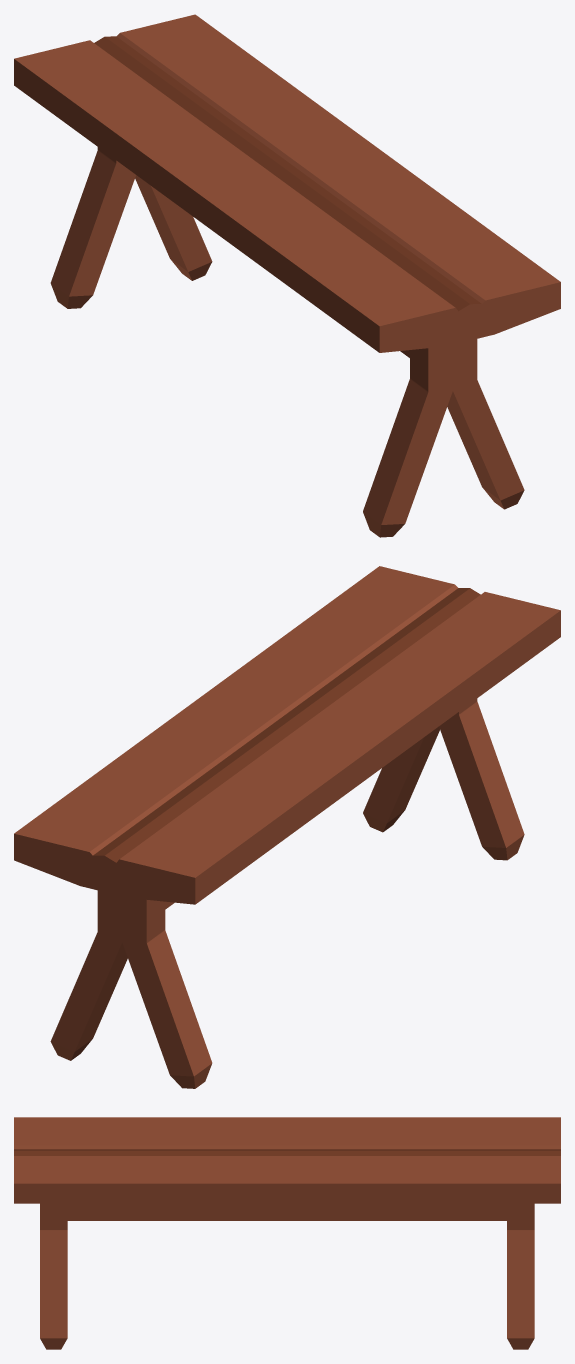
File: Bench_2.fbx
The picture shows the model from 3 angles, top to bottom: view 1: azimuth 30°, elevation 25°; view 2: azimuth 150°, elevation 25°; view 3: azimuth 270°, elevation 25°; orthographic projection. The views are drawn at different scales.
Parts seen in each view (by area): view 1: Cube; view 2: Cube; view 3: Cube.
Boxes of the visible parts, x1,y1,x2,y2 form: Cube: [14, 14, 560, 537]; Cube: [14, 566, 560, 1088]; Cube: [14, 1117, 560, 1349].
Bounding box in the file's own units: 399 × 494 × 1395.
